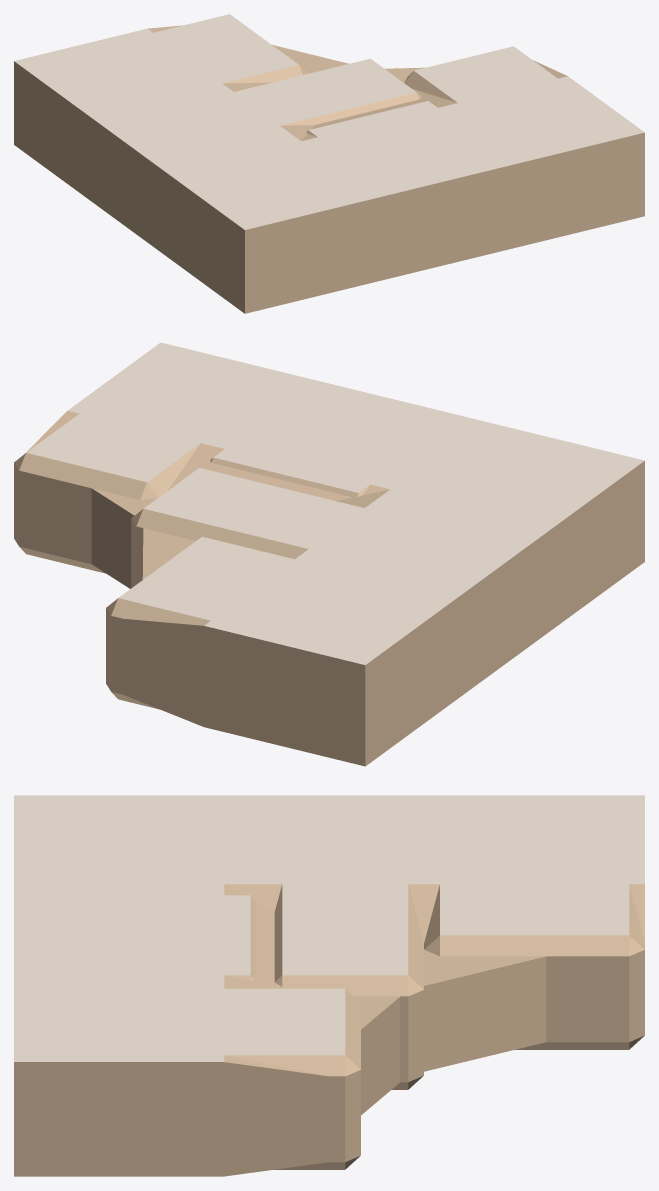
Rendered from Floor_Ruined_Corner_Inner_2.fbx.
3 renders of one model, top to bottom at view 1: azimuth 30°, elevation 25°; view 2: azimuth 150°, elevation 25°; view 3: azimuth 270°, elevation 25°, orthographic. The views are drawn at different scales.
Visible parts, largest first — view 1: Sandstone_Floor, Sandstone_Trim.object1; view 2: Sandstone_Floor, Sandstone_Trim.object1; view 3: Sandstone_Floor, Sandstone_Trim.object1.
Part boxes in pixels (bbox=[...]): Sandstone_Floor: bbox=[14, 14, 644, 229]; Sandstone_Trim.object1: bbox=[14, 25, 644, 313]; Sandstone_Floor: bbox=[26, 342, 644, 664]; Sandstone_Trim.object1: bbox=[14, 410, 644, 766]; Sandstone_Floor: bbox=[14, 795, 644, 1061]; Sandstone_Trim.object1: bbox=[14, 884, 644, 1176].
Bounding box in the file's own units: 1 × 0.2 × 1.
